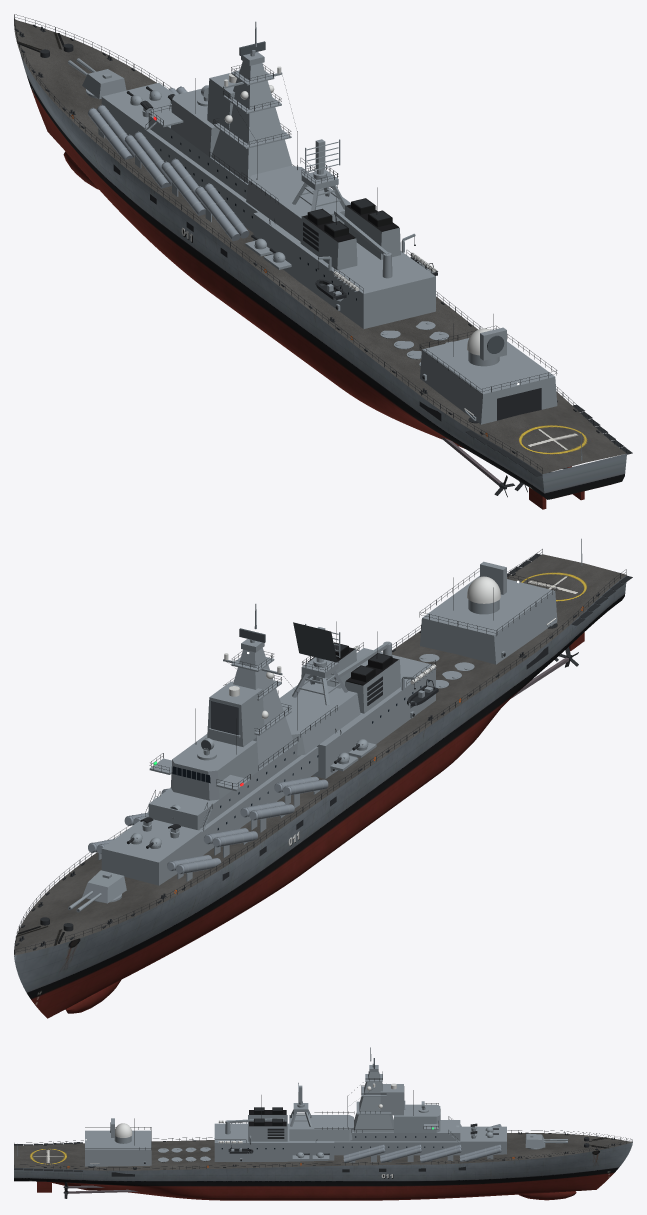
The model's file is slava.glb.
3 renders of one model, top to bottom at view 1: azimuth 30°, elevation 25°; view 2: azimuth 150°, elevation 25°; view 3: azimuth 270°, elevation 25°, orthographic. The views are drawn at different scales.
Visible parts, largest first — view 1: slava_static, p1000_containers, mount_gun_0; view 2: slava_static, p1000_containers, radar, mount_gun_0; view 3: slava_static, p1000_containers, mount_gun_0.
Boxes of the visible parts, bbox=[...] form: slava_static: bbox=[14, 14, 632, 509]; p1000_containers: bbox=[88, 87, 249, 257]; mount_gun_0: bbox=[68, 58, 126, 99]; slava_static: bbox=[14, 538, 632, 1018]; p1000_containers: bbox=[88, 776, 336, 881]; radar: bbox=[293, 622, 340, 662]; mount_gun_0: bbox=[68, 870, 126, 912]; slava_static: bbox=[14, 1047, 632, 1200]; p1000_containers: bbox=[342, 1124, 500, 1172]; mount_gun_0: bbox=[525, 1133, 567, 1149].
Bounding box in the file's own units: 21 × 50.5 × 186.
13 materials, 2 textured.
